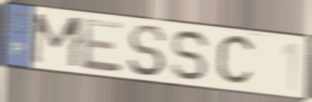1: (282, 41, 300, 92)
C: (214, 32, 258, 89)
E: (81, 16, 124, 75)
M: (29, 12, 86, 71)
S: (170, 28, 214, 83), (126, 23, 169, 79)
